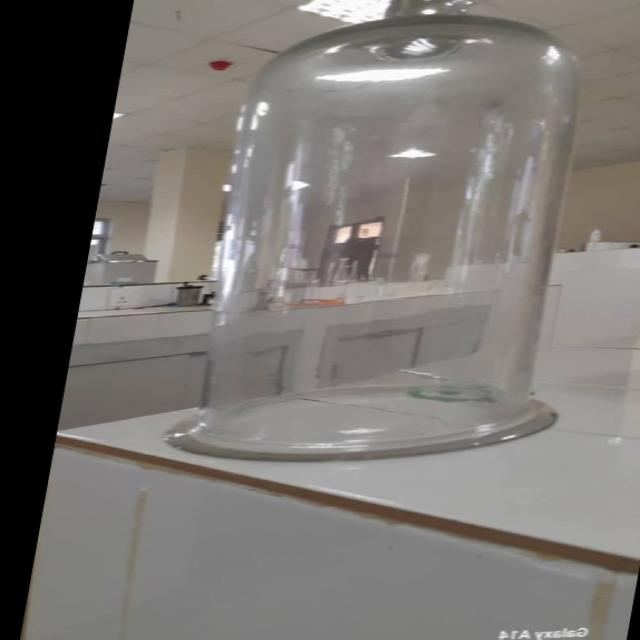Gas Bottle: (147, 0, 640, 468)
